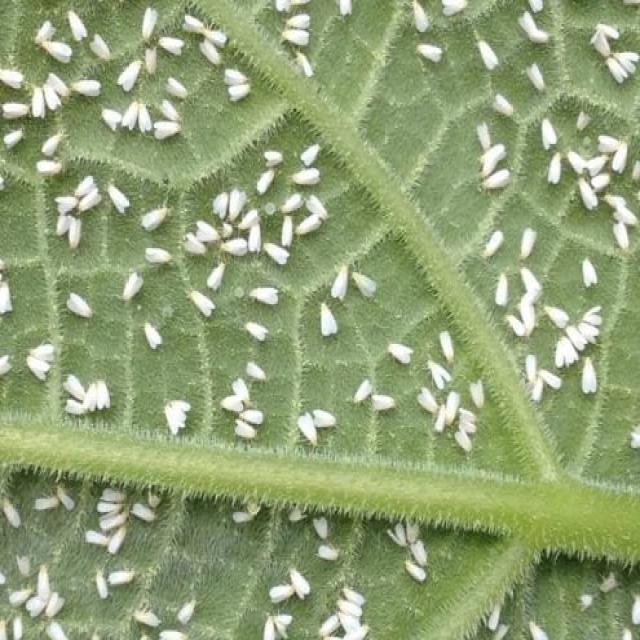Whitefly: (11, 1, 637, 640)
